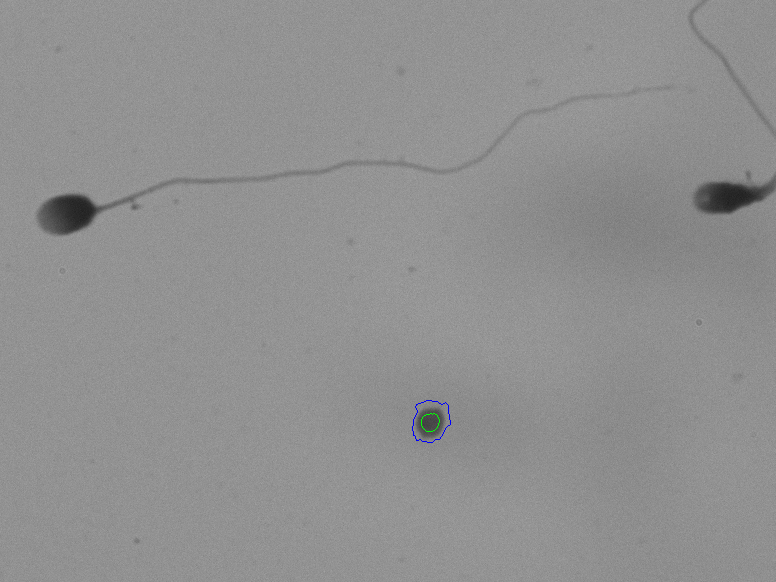Normal: (20, 63, 634, 274)
